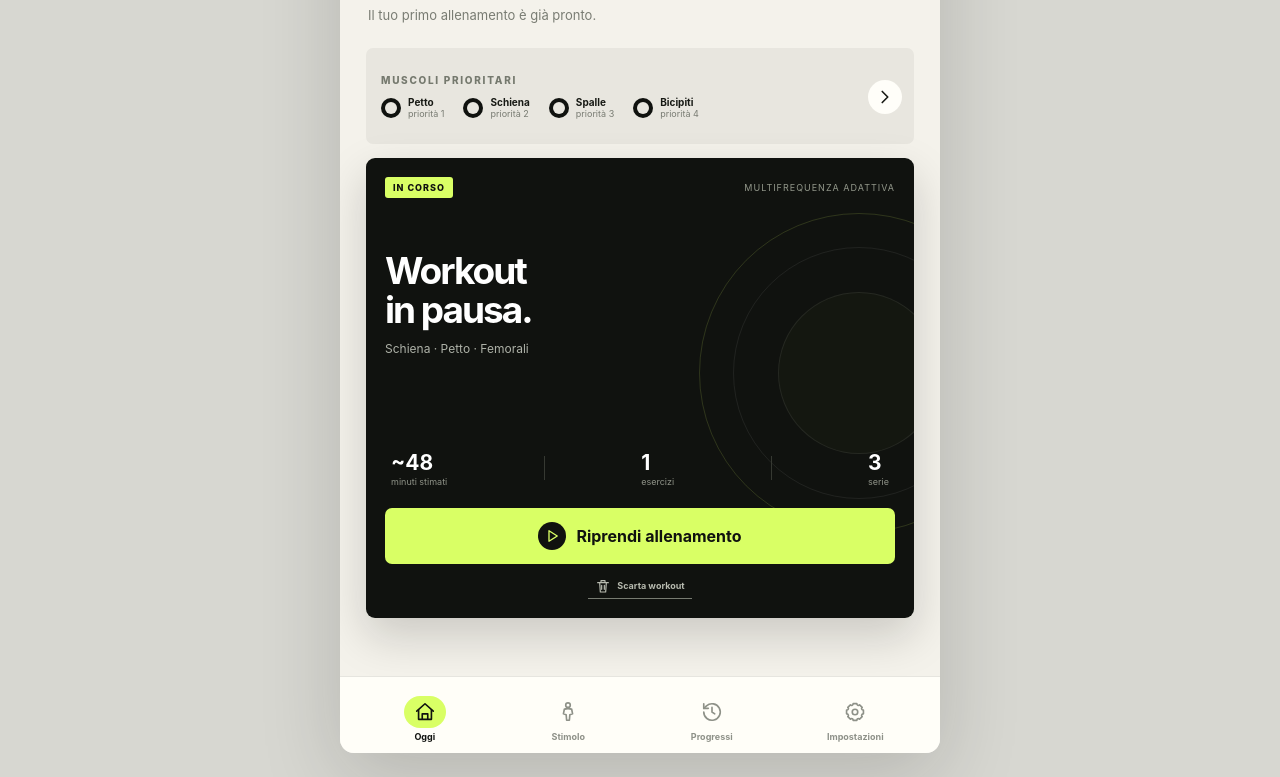
Test: critical workout lifecycle › a small volume shortfall does not ask for recalibration (extra reps: 0)
This screenshot has width=1280, height=777.
(page scrolled)
Click the button "Riprendi allenamento" at (640, 536), box [385,508,895,564]
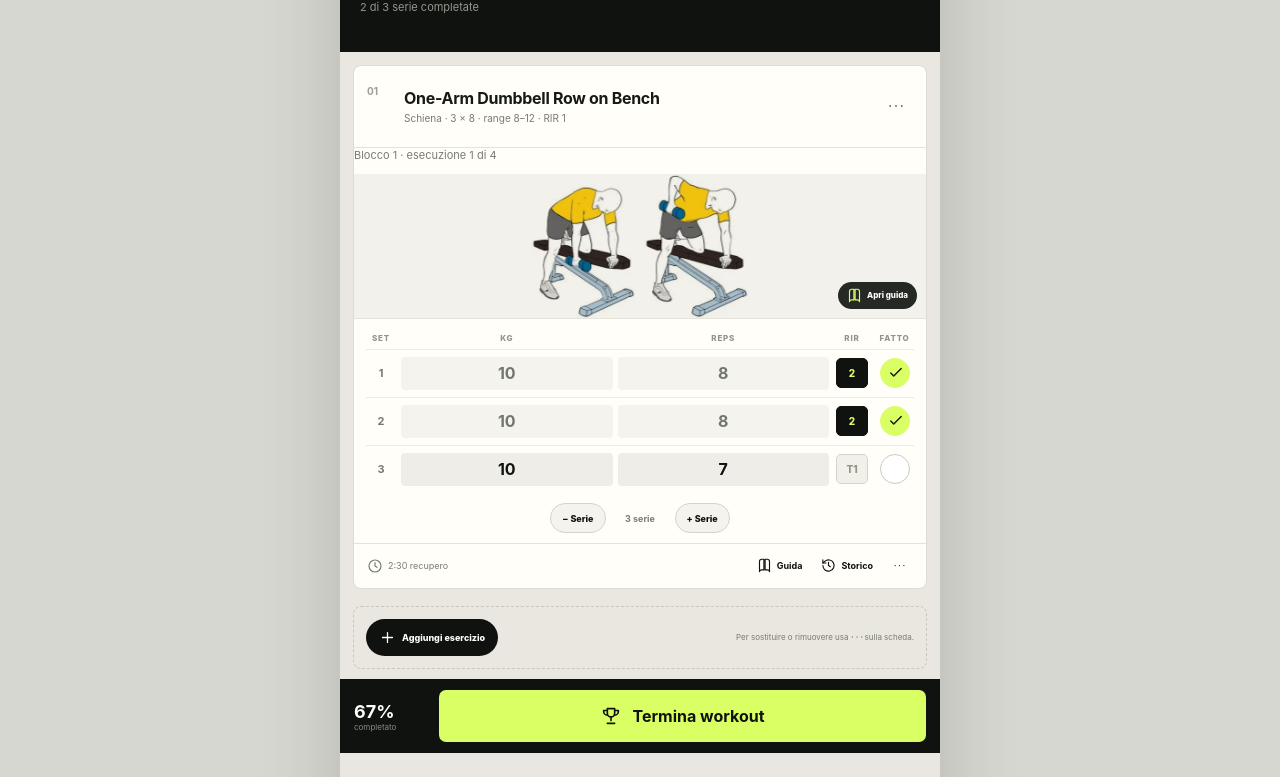
Click the 3rd button with class "set-check" at (894, 469), box [880,454,910,484]
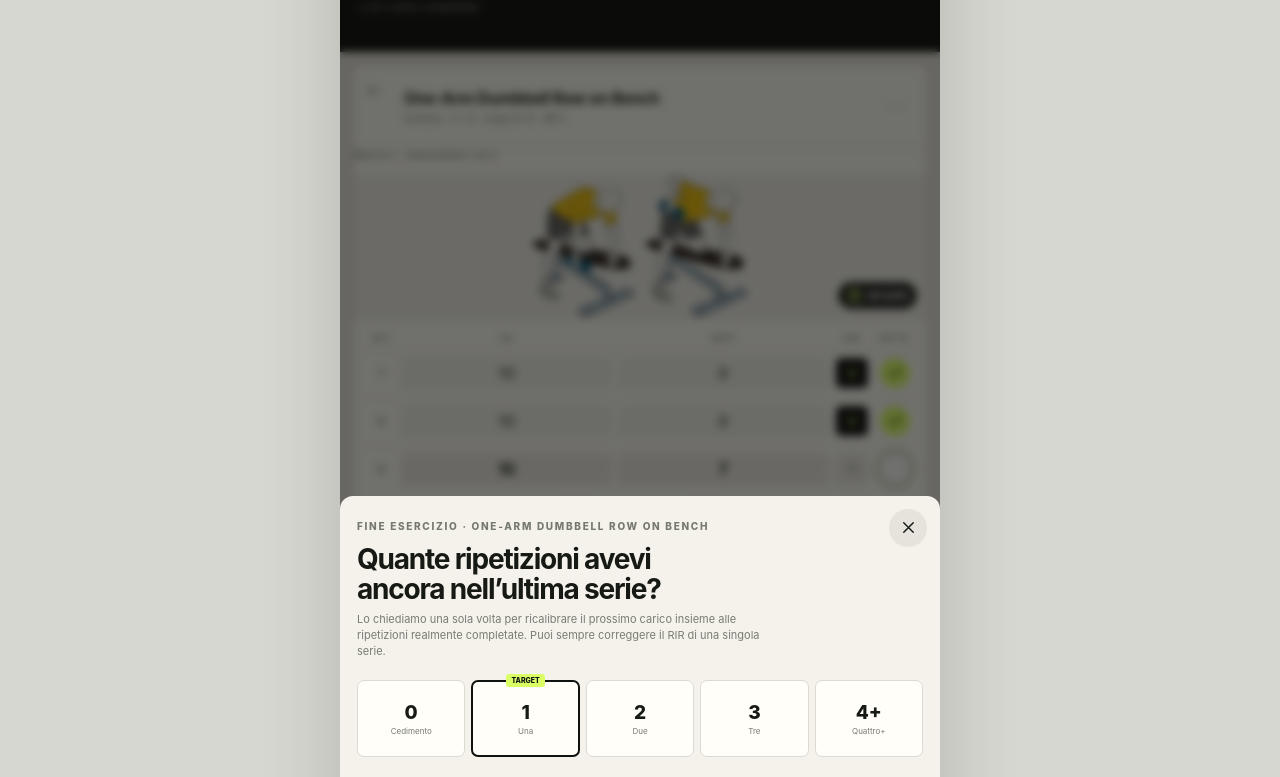
Click the button "2 Due" at (640, 718), box [586,680,694,757]
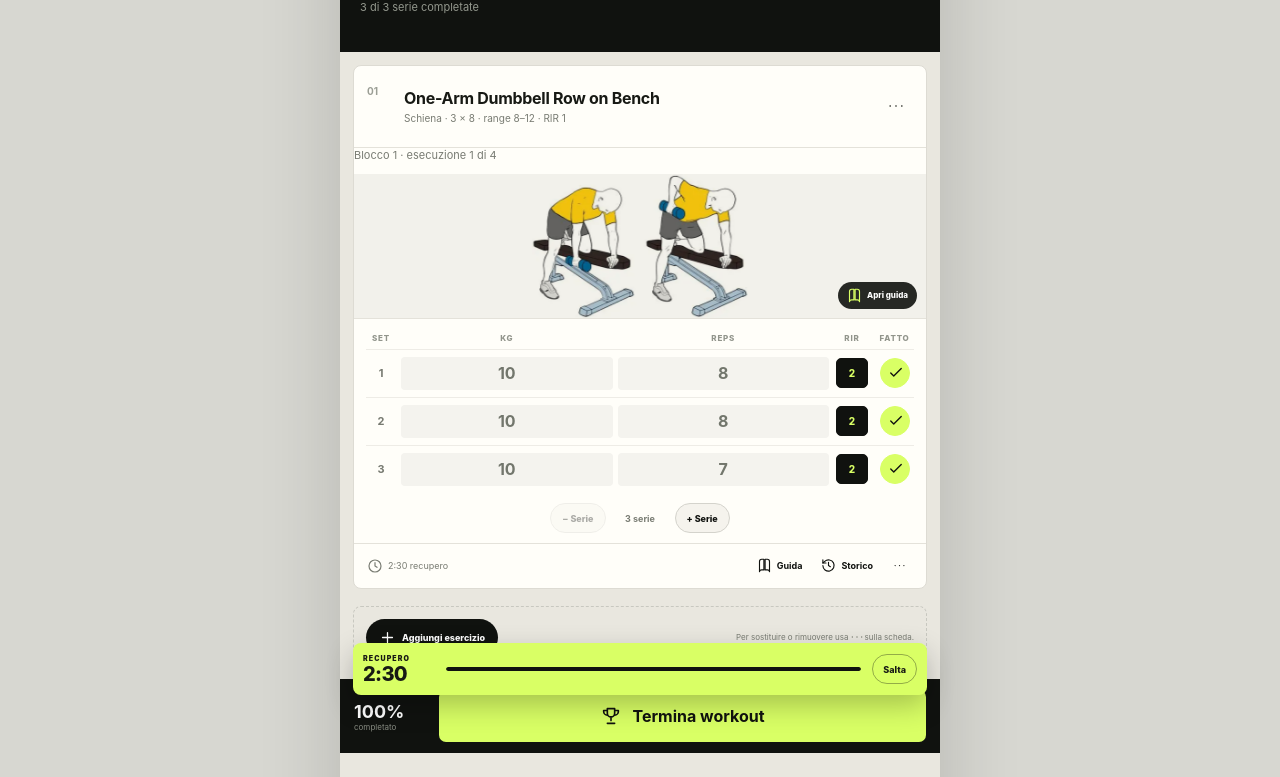
Check: the button "Gestisci volume sotto target" is gone
